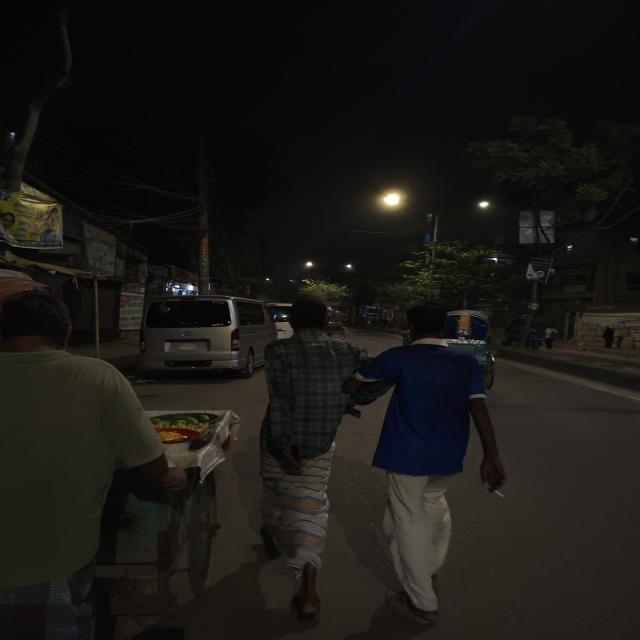car: (134, 294, 290, 380)
pedestrian: (0, 266, 157, 636), (345, 316, 497, 632)
rickshaw: (437, 306, 503, 394)
